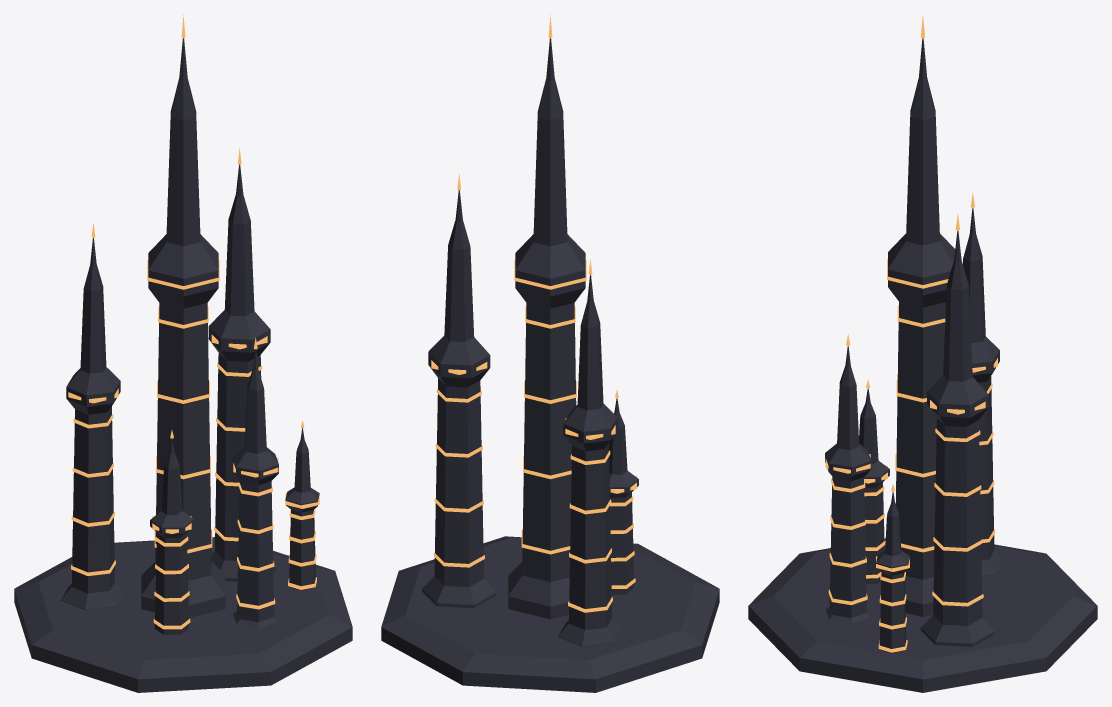
The model's file is Distant_02_quest.glb.
The picture shows the model from 3 angles, left to right: view 1: azimuth 30°, elevation 25°; view 2: azimuth 150°, elevation 25°; view 3: azimuth 270°, elevation 25°; orthographic projection.
Parts seen in each view (by area): view 1: Distant_02_Body, Distant_02_Lights; view 2: Distant_02_Body, Distant_02_Lights; view 3: Distant_02_Body, Distant_02_Lights.
Boxes of the visible parts, left/top/right/bottom form: Distant_02_Body: left=14, top=38, right=352, bottom=692; Distant_02_Lights: left=68, top=14, right=319, bottom=629; Distant_02_Body: left=381, top=38, right=719, bottom=692; Distant_02_Lights: left=431, top=14, right=636, bottom=612; Distant_02_Body: left=748, top=38, right=1097, bottom=692; Distant_02_Lights: left=825, top=16, right=997, bottom=652.
Size of the model in its own units: 140 by 268 by 140.
